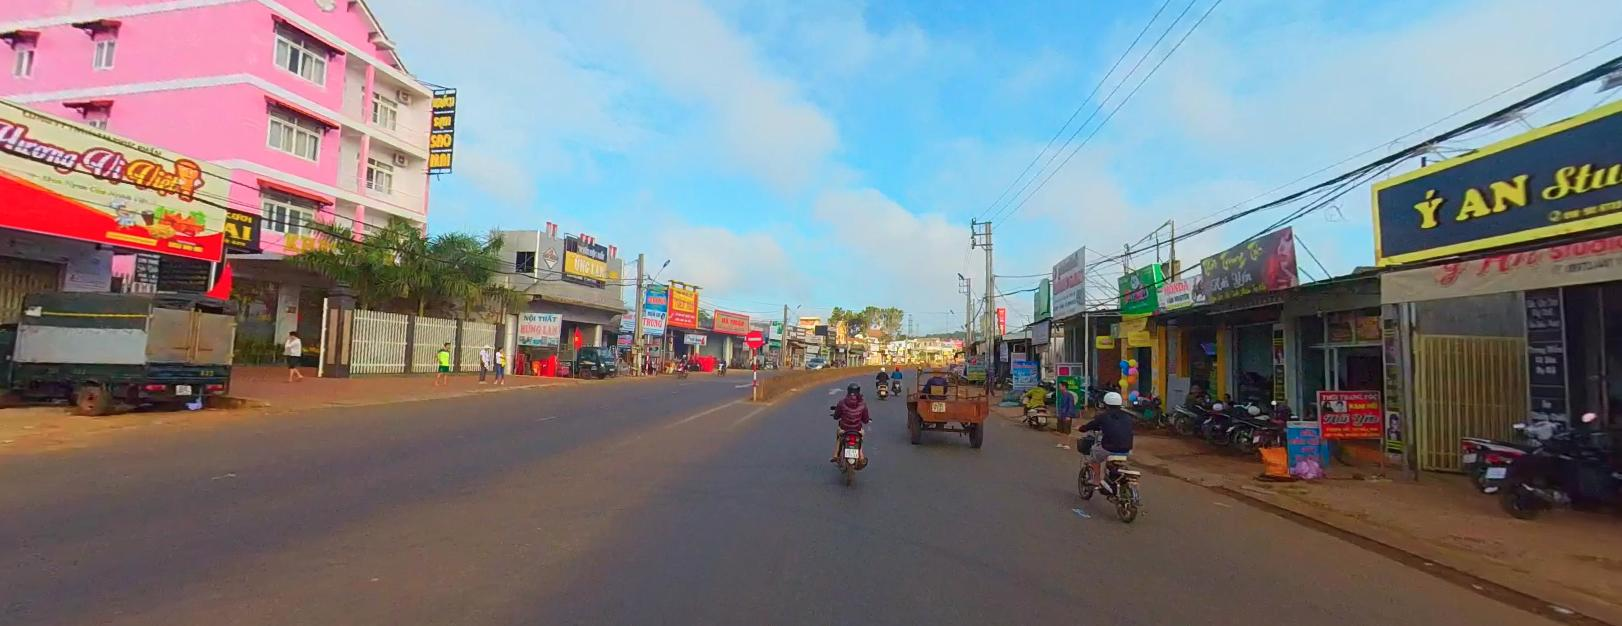Cam nguoc chieu: (746, 329, 761, 345)
